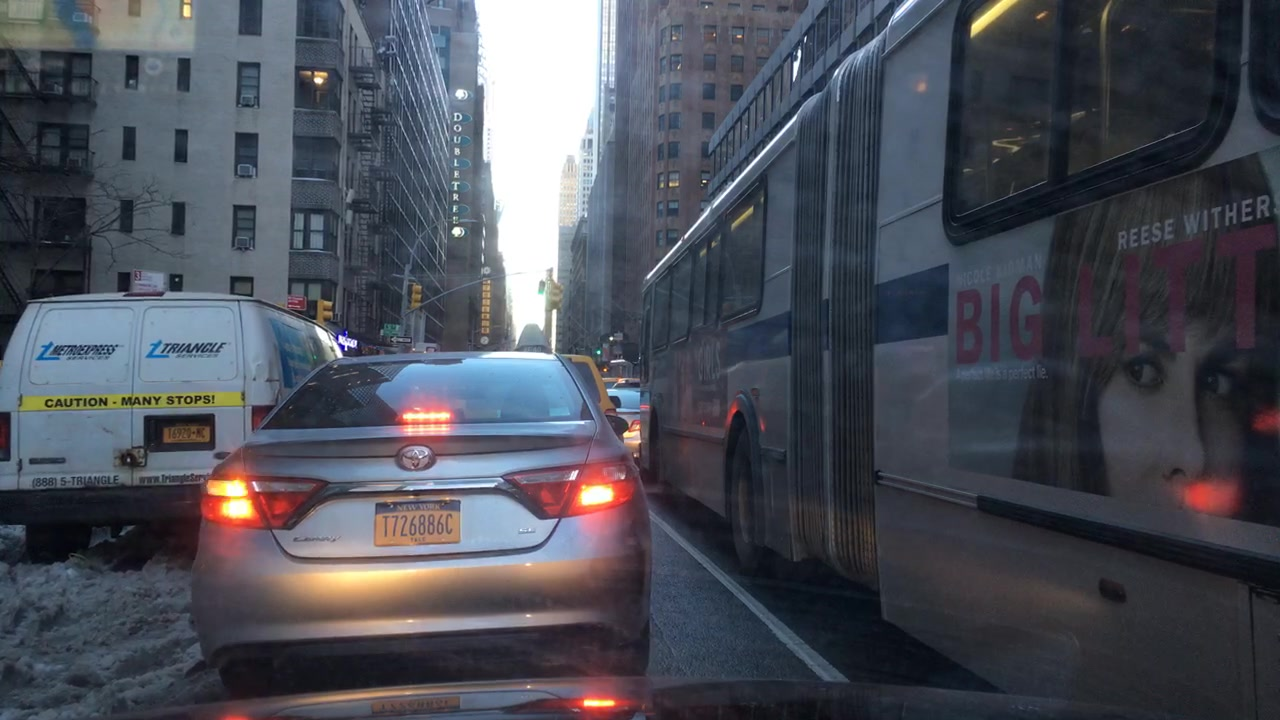licence: (371, 497, 463, 549)
